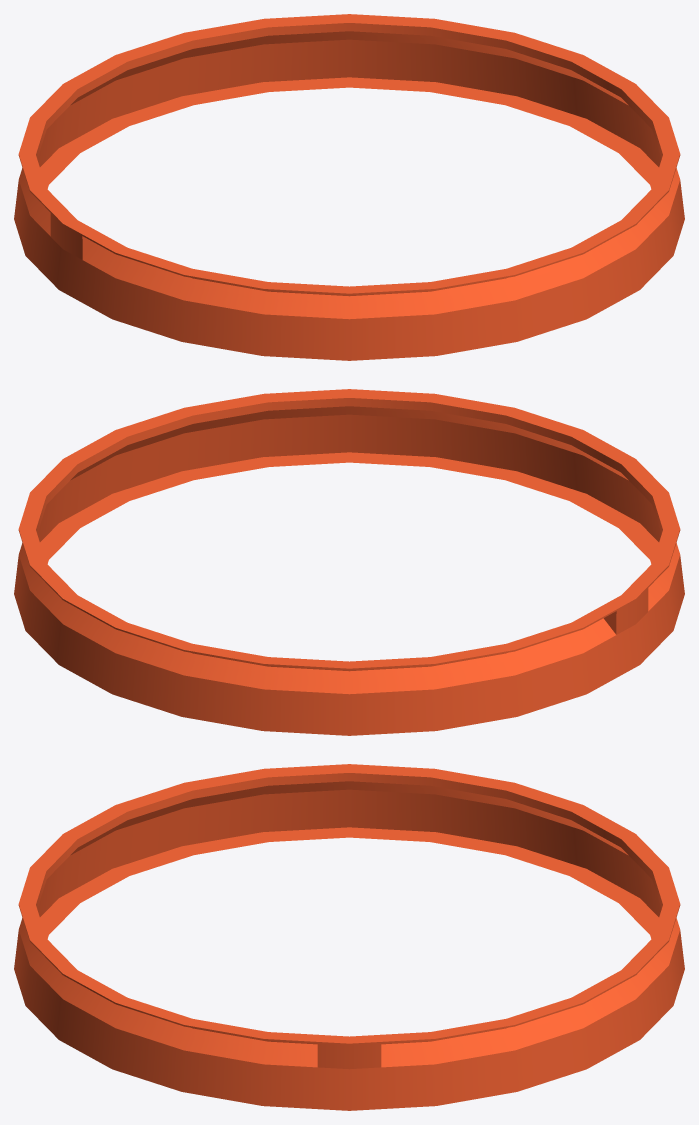
File: original-4.obj
3 renders of one model, top to bottom at view 1: azimuth 30°, elevation 25°; view 2: azimuth 150°, elevation 25°; view 3: azimuth 270°, elevation 25°, orthographic.
Visible parts, largest first — view 1: #ID21; view 2: #ID21; view 3: #ID21.
Part boxes in pixels (x1=…): #ID21: x1=14, y1=14, x2=684, y2=360; #ID21: x1=14, y1=389, x2=684, y2=735; #ID21: x1=14, y1=764, x2=684, y2=1110.
Size of the model in its own units: 1.31 by 0.1405 by 1.31.
